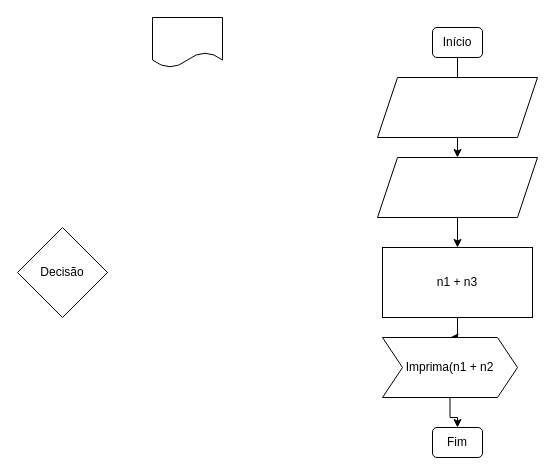
Some shapes in this 555 by 475 pixel diagram are drawn without their labels. The shapes that lost their labels are listed below. From the top down, each one's box as (x1, y1, x2, y2) in pixels, then its label:
(152, 16, 222, 68): Saída
(376, 76, 538, 138): Entrada(n1)
(376, 156, 538, 218): Entrada(n2)
